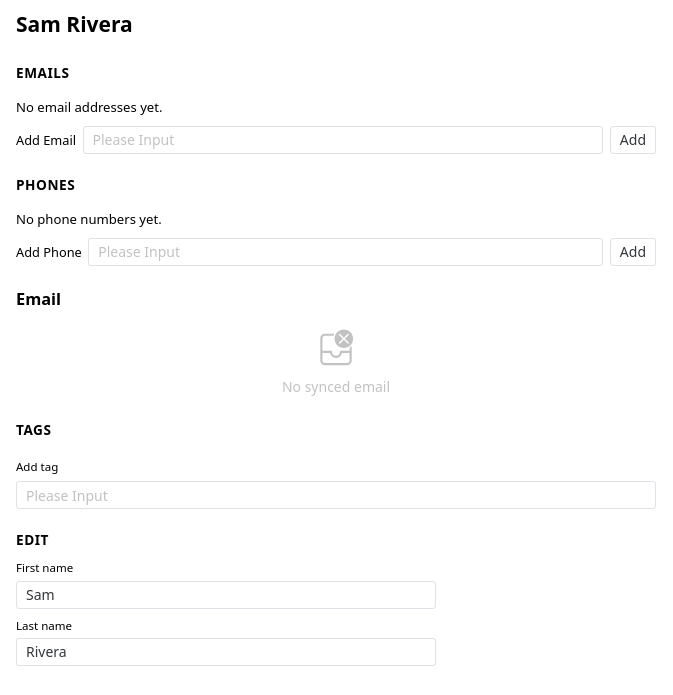
Test: PersonDetailPage › the TagInput attaches via POST /api/people/:id/tags
The width and height of the screenshot is (673, 695).
Type "Roadmap" into the field labelled "Add tag" at (336, 495), box [26,481,646,509]
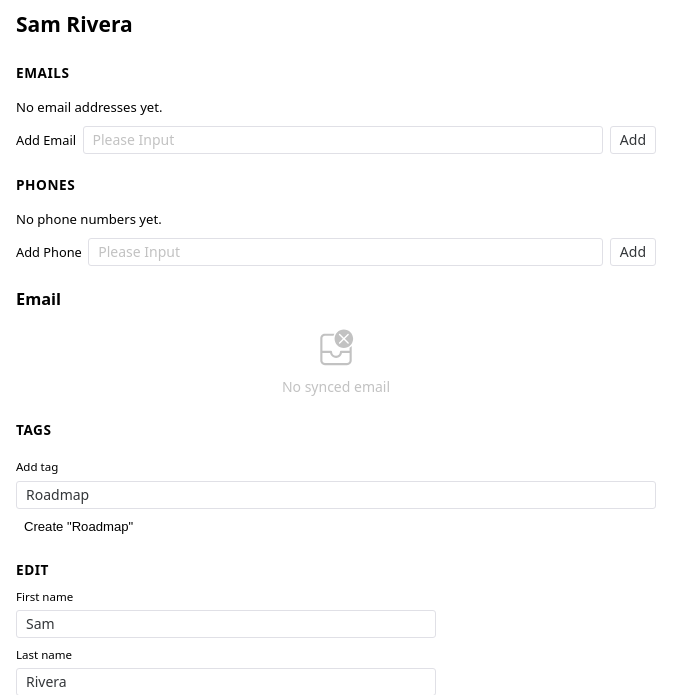
Click the button with test id "tag-create-option" at (79, 526), box [16,514,656,539]
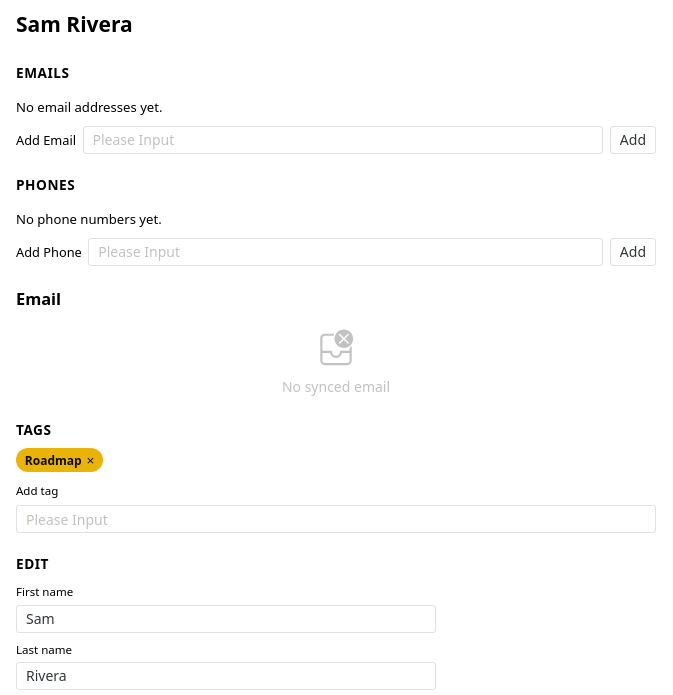
Now the text "Roadmap" is shown, box [25,452,82,469]
